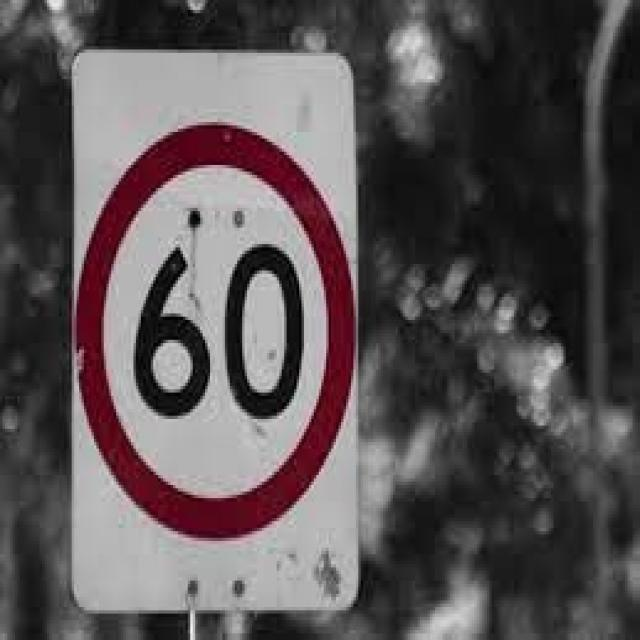speed_limit_60: (73, 121, 366, 551)
